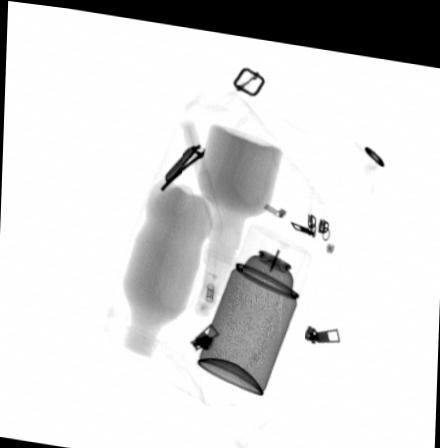Sprayer: (194, 215, 314, 389)
